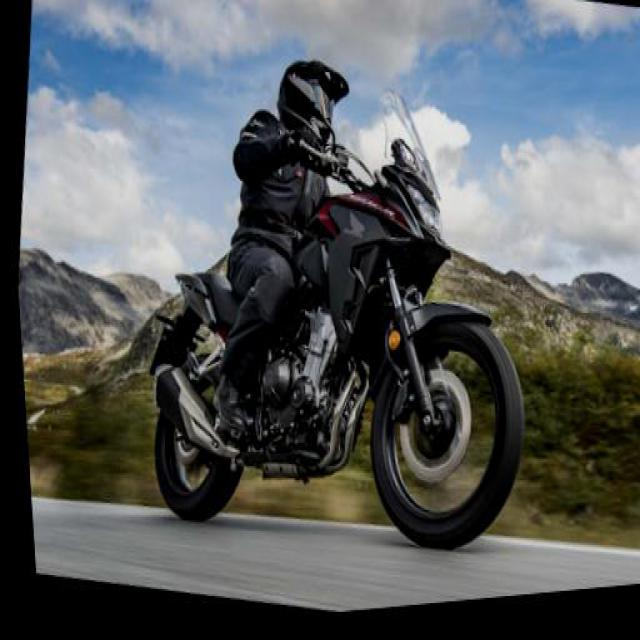CB500X: (115, 35, 563, 601)
